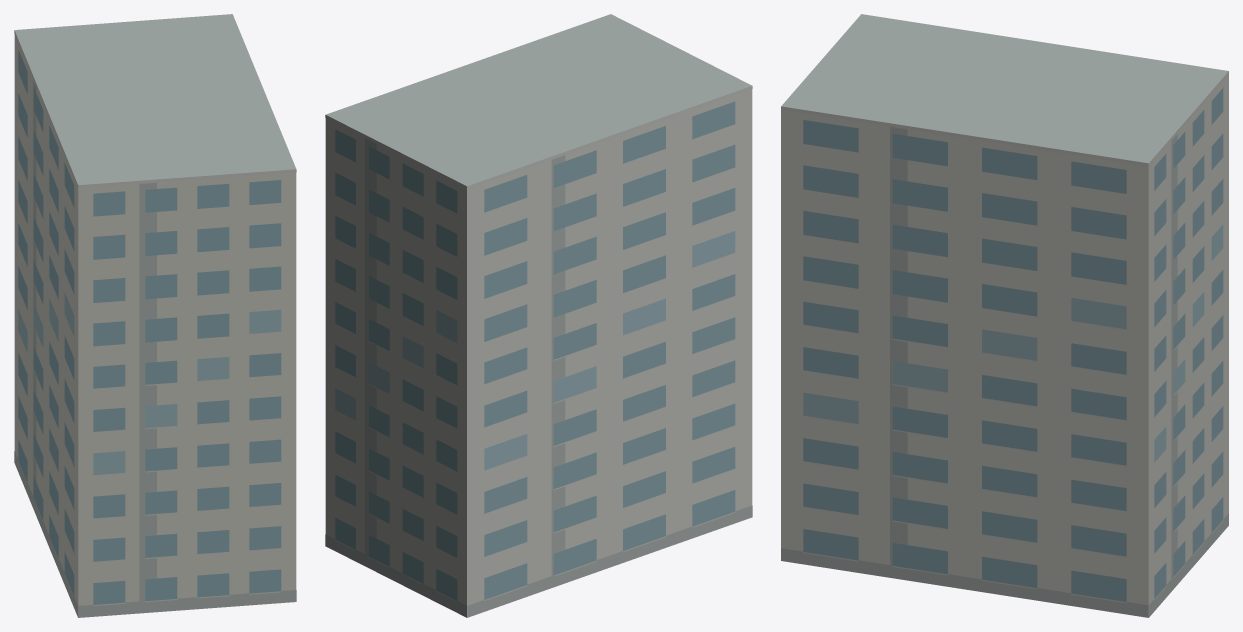
Rendered from residential-9cd28cf5-1202-4101-b7b2-fa0b9356f6e5.glb.
3 views of the same model, side by side, from view 1: azimuth 30°, elevation 25°; view 2: azimuth 150°, elevation 25°; view 3: azimuth 270°, elevation 25° (orthographic). The views are drawn at different scales.
Visible parts, largest first — view 1: residential-9cd28cf5-1202-4101-b7b2-fa0b9356f6e5.tmp; view 2: residential-9cd28cf5-1202-4101-b7b2-fa0b9356f6e5.tmp; view 3: residential-9cd28cf5-1202-4101-b7b2-fa0b9356f6e5.tmp.
Part boxes in pixels (x1,y1,x2,y2): residential-9cd28cf5-1202-4101-b7b2-fa0b9356f6e5.tmp: (14,14,296,617); residential-9cd28cf5-1202-4101-b7b2-fa0b9356f6e5.tmp: (325,14,752,617); residential-9cd28cf5-1202-4101-b7b2-fa0b9356f6e5.tmp: (781,14,1228,617).
Bounding box in the file's own units: 22.55 × 32 × 28.58.
